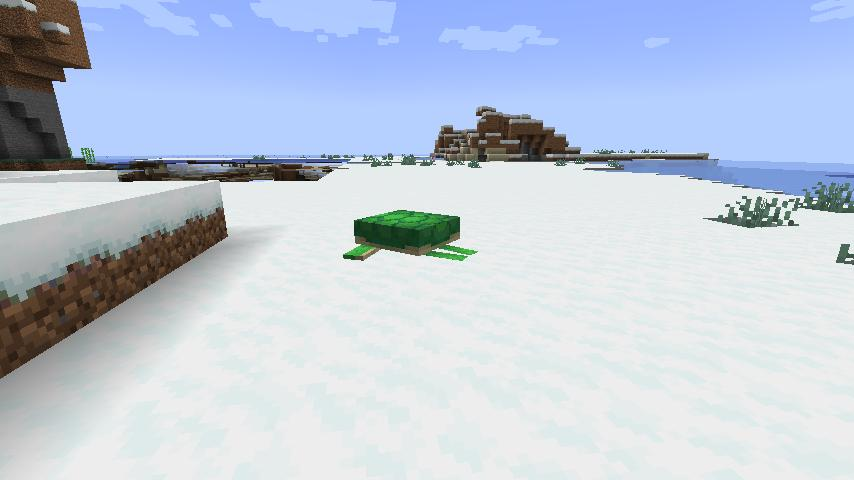turtle: (340, 204, 482, 273)
